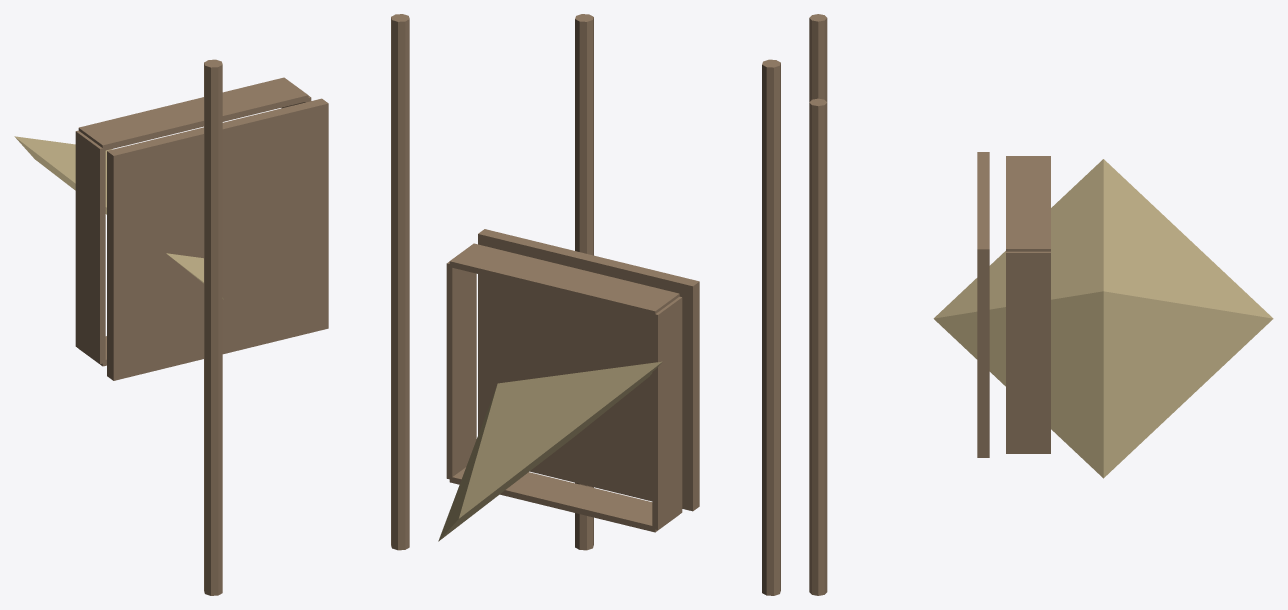
Rendered from watchtower_machan.glb.
3 views of the same model, side by side, from view 1: azimuth 30°, elevation 25°; view 2: azimuth 150°, elevation 25°; view 3: azimuth 270°, elevation 25° (orthographic). The views are drawn at different scales.
Parts seen in each view (by area): view 1: Watchtower_Machan; view 2: Watchtower_Machan; view 3: Watchtower_Machan.
Boxes of the visible parts, x1,y1,x2,y2 form: Watchtower_Machan: [14, 14, 409, 595]; Watchtower_Machan: [438, 14, 780, 595]; Watchtower_Machan: [809, 14, 1273, 595].
Size of the model in its own units: 5.27 by 10.8 by 9.28.
